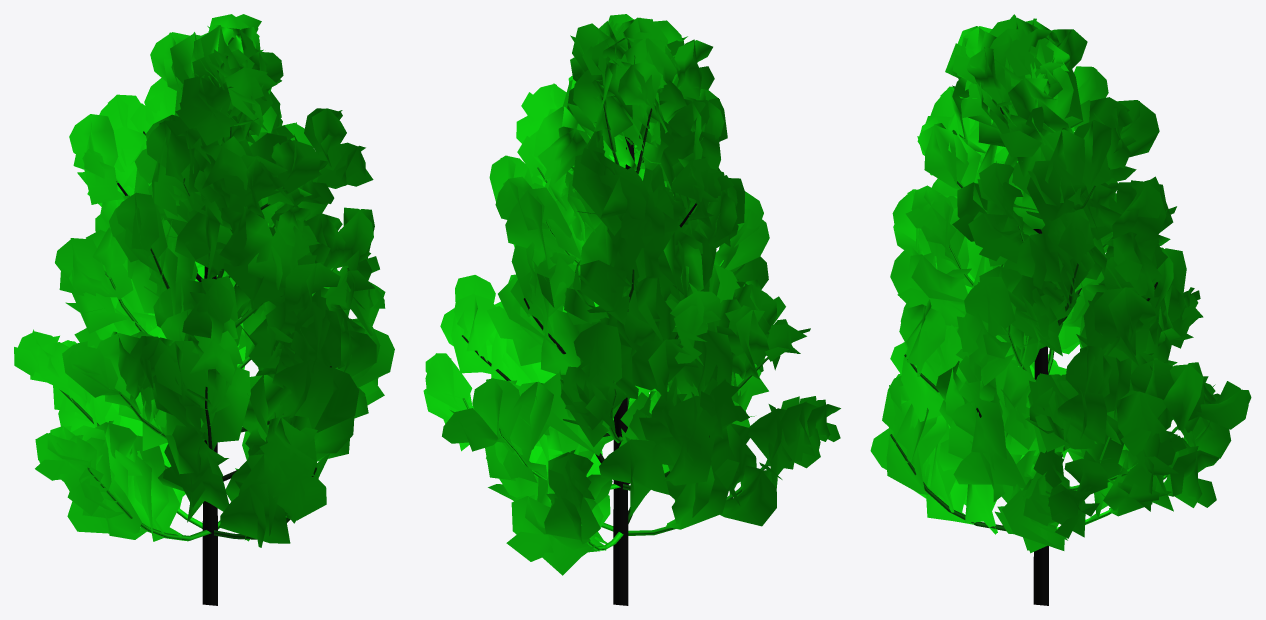
File: Pine_002_S2_Conform.FBX
3 renders of one model, left to right at view 1: azimuth 30°, elevation 25°; view 2: azimuth 150°, elevation 25°; view 3: azimuth 270°, elevation 25°, orthographic.
Parts seen in each view (by area): view 1: S2_LOD0; view 2: S2_LOD0; view 3: S2_LOD0.
Part boxes in pixels (x1,y1,x2,y2): S2_LOD0: (14, 14, 394, 605); S2_LOD0: (423, 14, 840, 605); S2_LOD0: (870, 14, 1251, 605).
Size of what is drawn, in the model's own units: 348 by 510 by 301.
